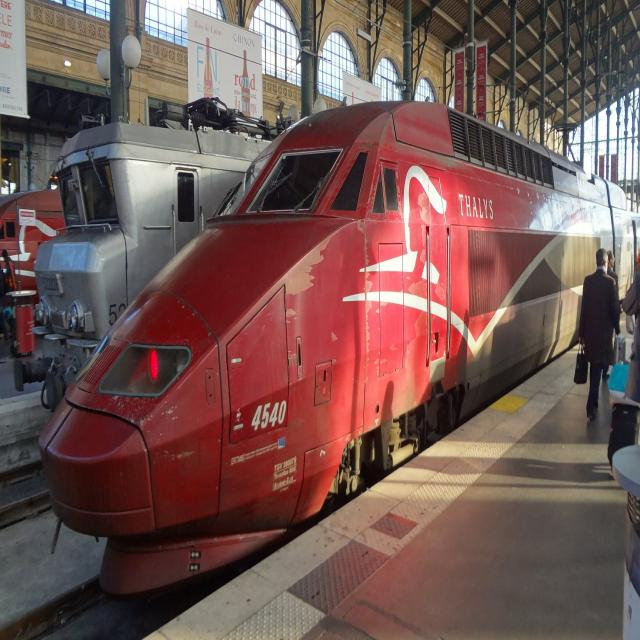body: (572, 246, 623, 422), (620, 247, 640, 404), (605, 249, 621, 302), (631, 229, 640, 287)
